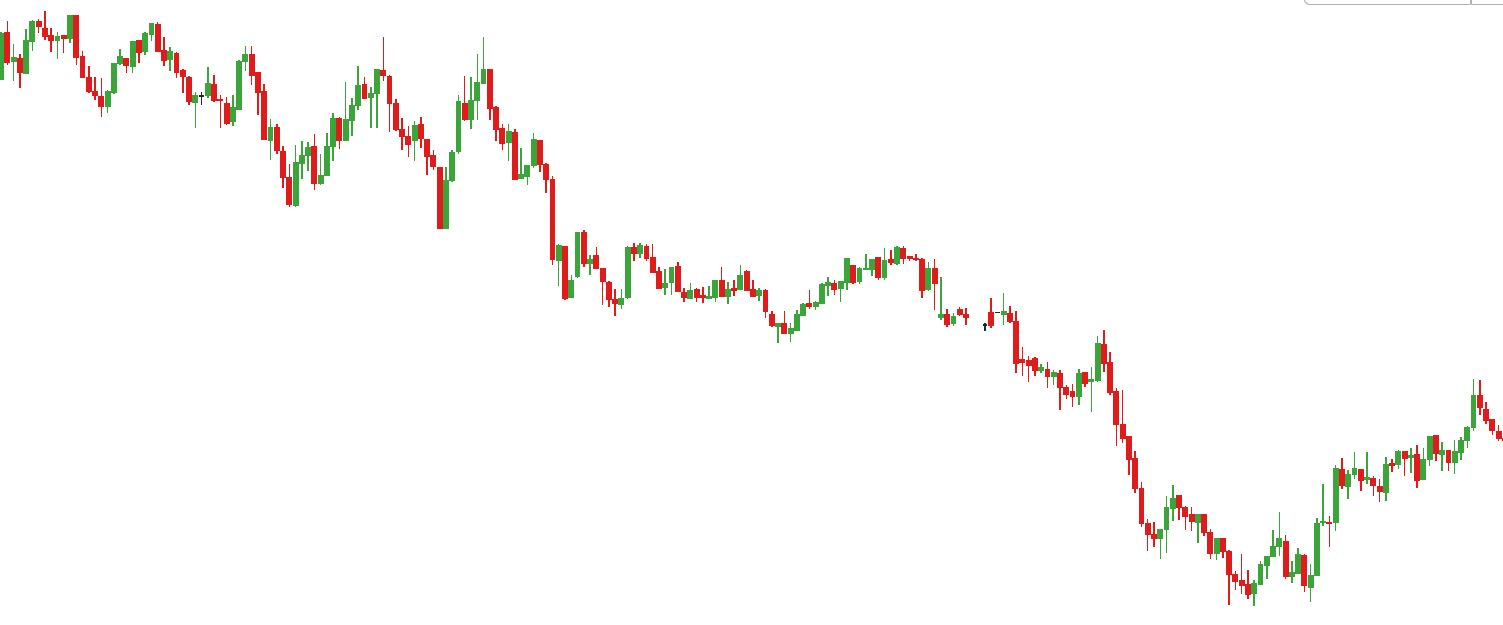sell: (205, 42, 255, 98)
